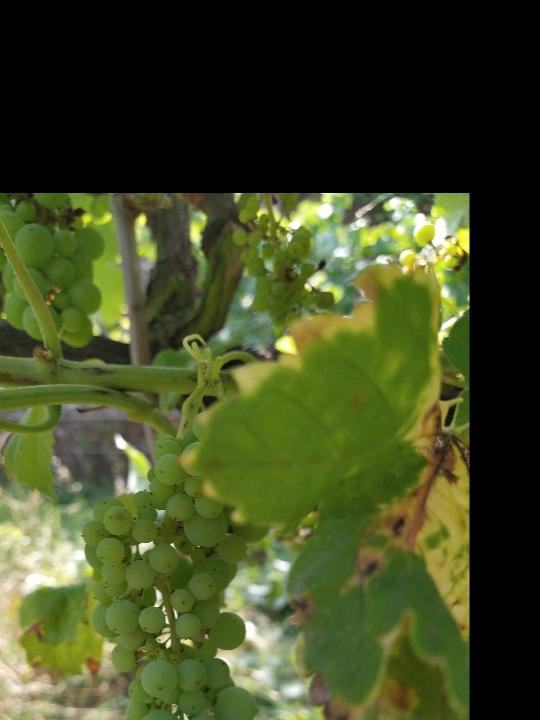grape: (76, 424, 261, 720)
